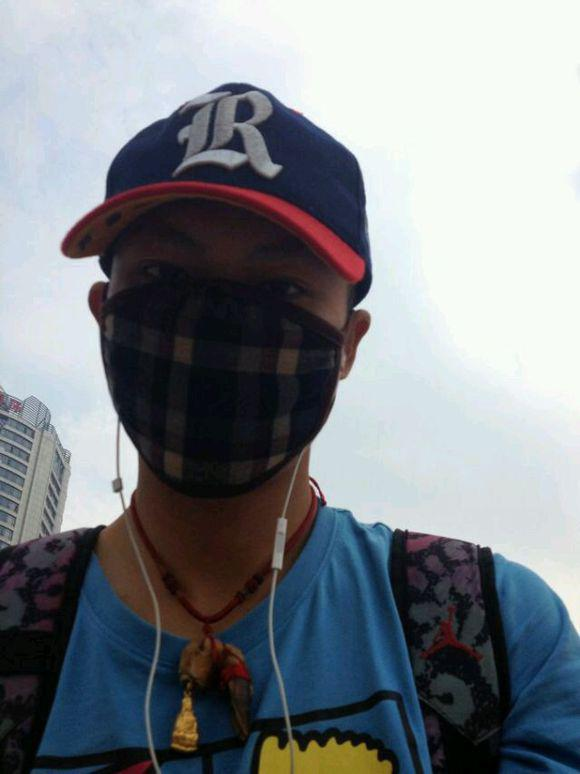OK: (91, 212, 354, 477)
